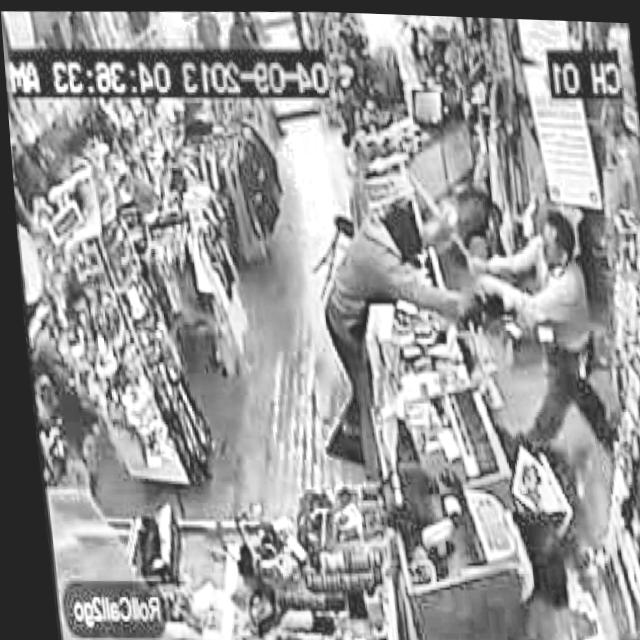robbery: (294, 183, 501, 470), (405, 168, 596, 352)
